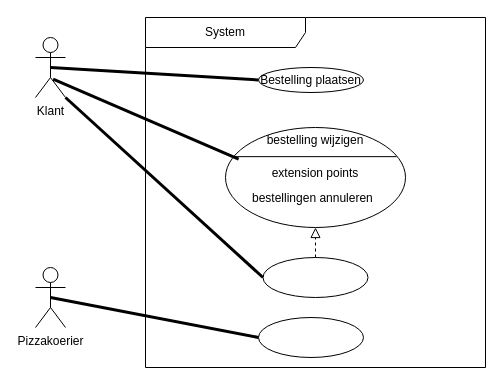
Image size: 503x385. Some labels were removed from this diagram. The shapes that lost their labels are listed below. From the top down, each one's centre as x and y in pixels, then its label:
(315,277): Bestelling annuleren
(311,337): Bestelling afleveren
